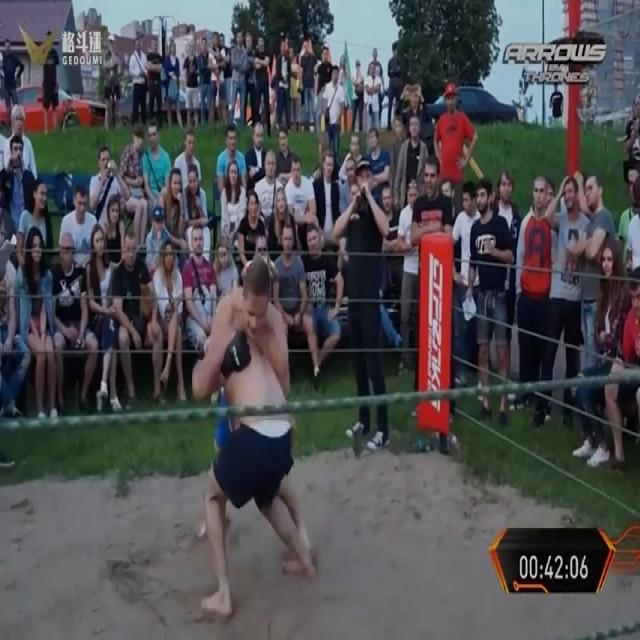fight: (184, 260, 318, 619)
non-fight: (333, 154, 397, 454), (401, 156, 456, 460), (464, 175, 518, 406), (512, 178, 554, 426), (606, 175, 639, 480), (110, 213, 160, 411), (196, 244, 251, 412), (433, 88, 478, 215), (217, 125, 248, 248), (18, 177, 58, 268), (394, 113, 429, 212), (284, 153, 316, 260), (60, 182, 94, 282), (319, 62, 350, 170), (249, 0, 271, 128), (143, 120, 171, 217), (8, 105, 36, 188), (252, 149, 280, 231), (173, 129, 202, 203), (126, 34, 149, 126), (180, 36, 202, 125), (362, 60, 384, 148), (38, 48, 59, 133), (299, 34, 317, 130), (200, 35, 217, 124)
